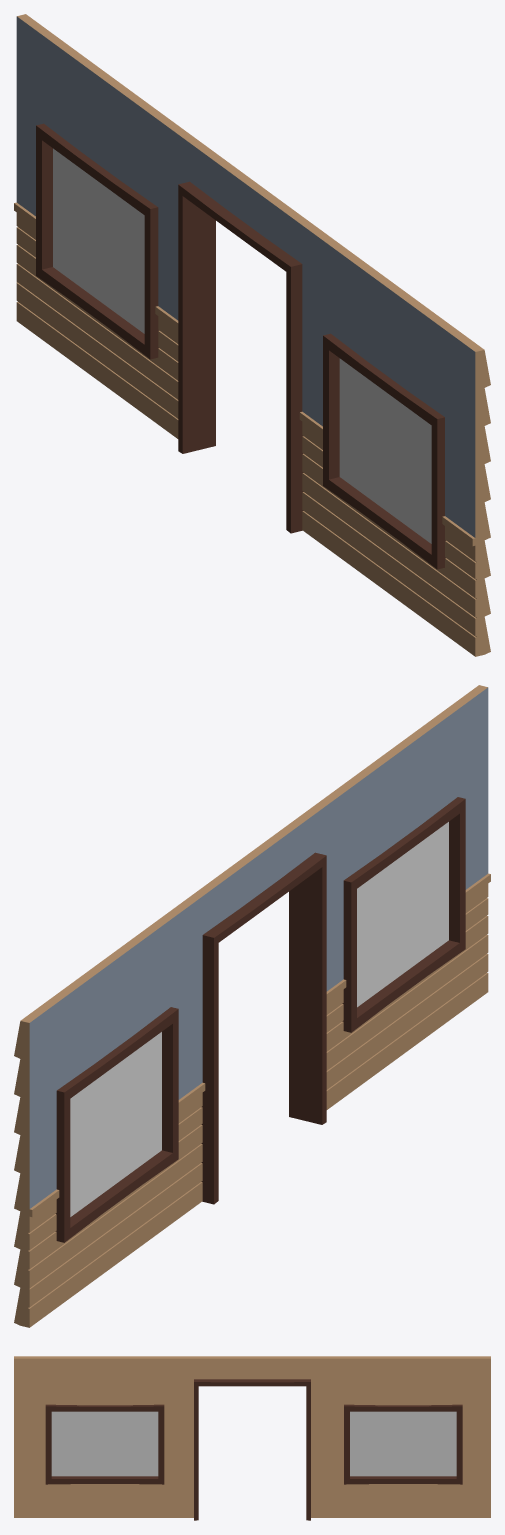
The model's file is Saloon Door D-col.glb.
The picture shows the model from 3 angles, top to bottom: view 1: azimuth 30°, elevation 25°; view 2: azimuth 150°, elevation 25°; view 3: azimuth 270°, elevation 25°; orthographic projection. The views are drawn at different scales.
Visible parts, largest first — view 1: Saloon Door D-col.001; view 2: Saloon Door D-col.001; view 3: Saloon Door D-col.001.
Part boxes in pixels (left/top/right/bottom): Saloon Door D-col.001: left=14, top=14, right=490, bottom=656; Saloon Door D-col.001: left=14, top=685, right=490, bottom=1327; Saloon Door D-col.001: left=14, top=1356, right=490, bottom=1520.
Bounding box in the file's own units: 0.25 × 2.2 × 6.
